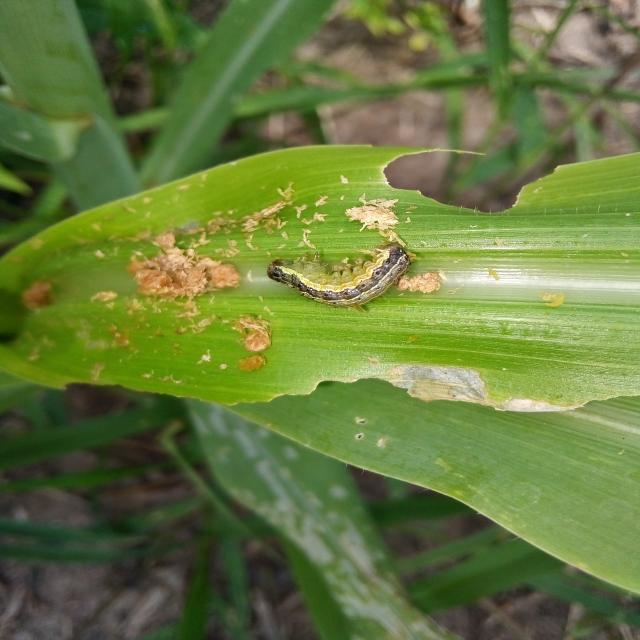yellow-stem-borer-larva: (260, 233, 440, 315)
